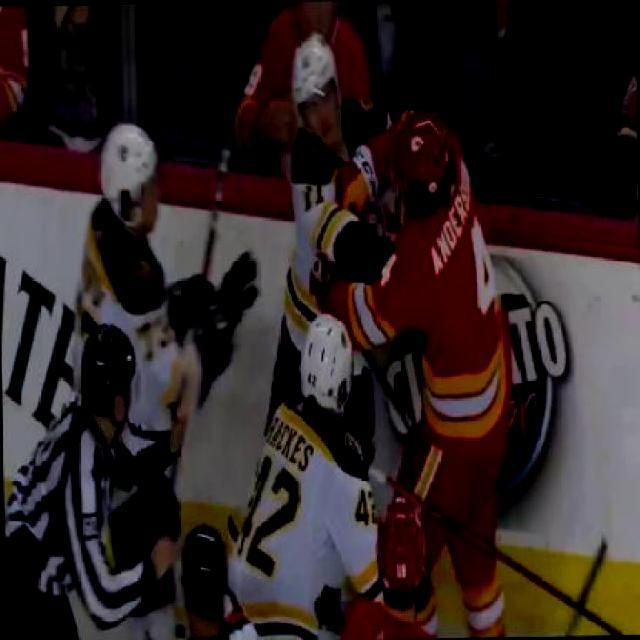fight: (280, 37, 512, 460)
